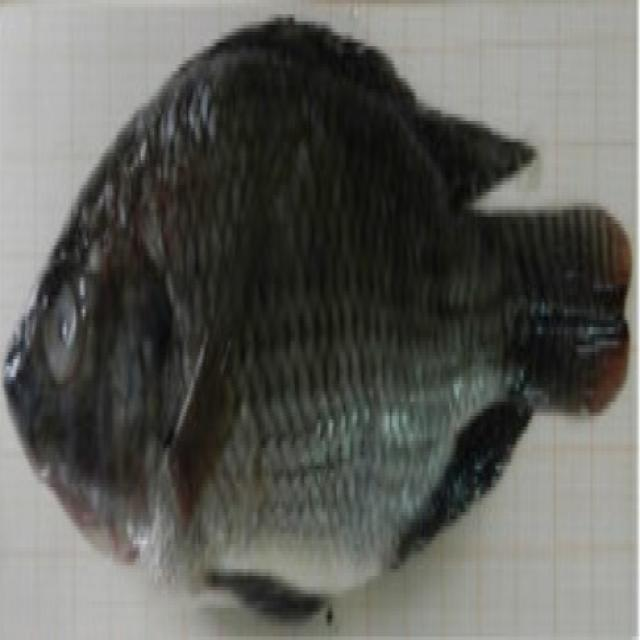ikan: (8, 18, 632, 622)
